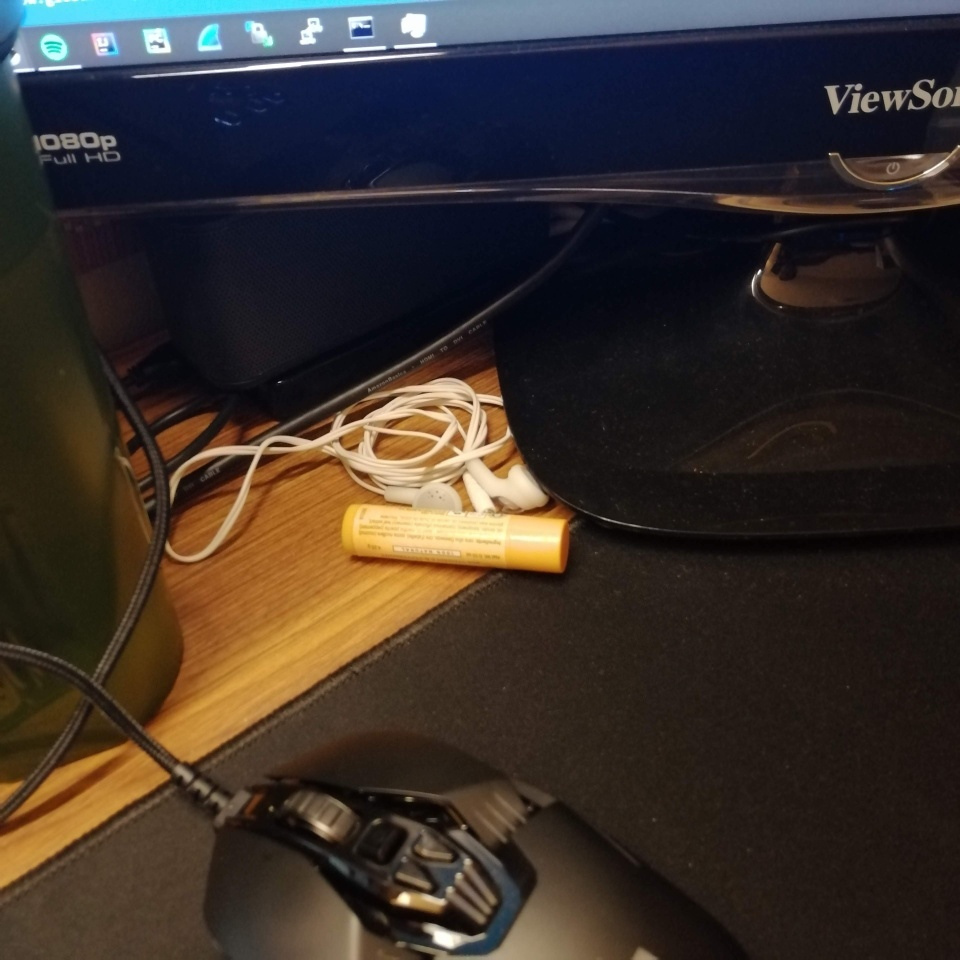chapstick: (341, 499, 572, 578)
